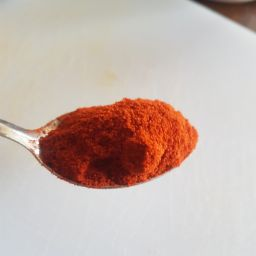Red chilli: (31, 94, 211, 200), (76, 117, 188, 162)
